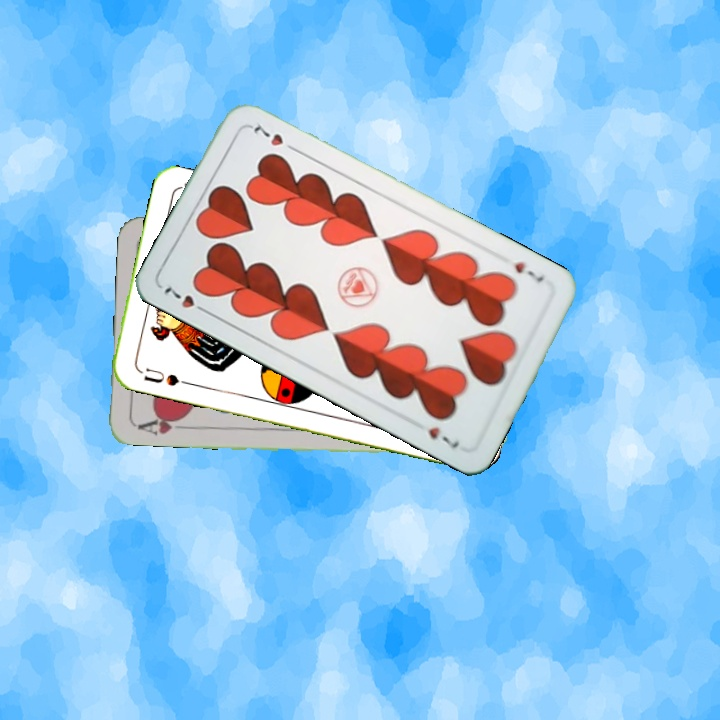H7: (159, 279, 212, 317), (510, 257, 547, 285)
HA: (134, 411, 192, 438)
SU: (134, 363, 192, 389)
